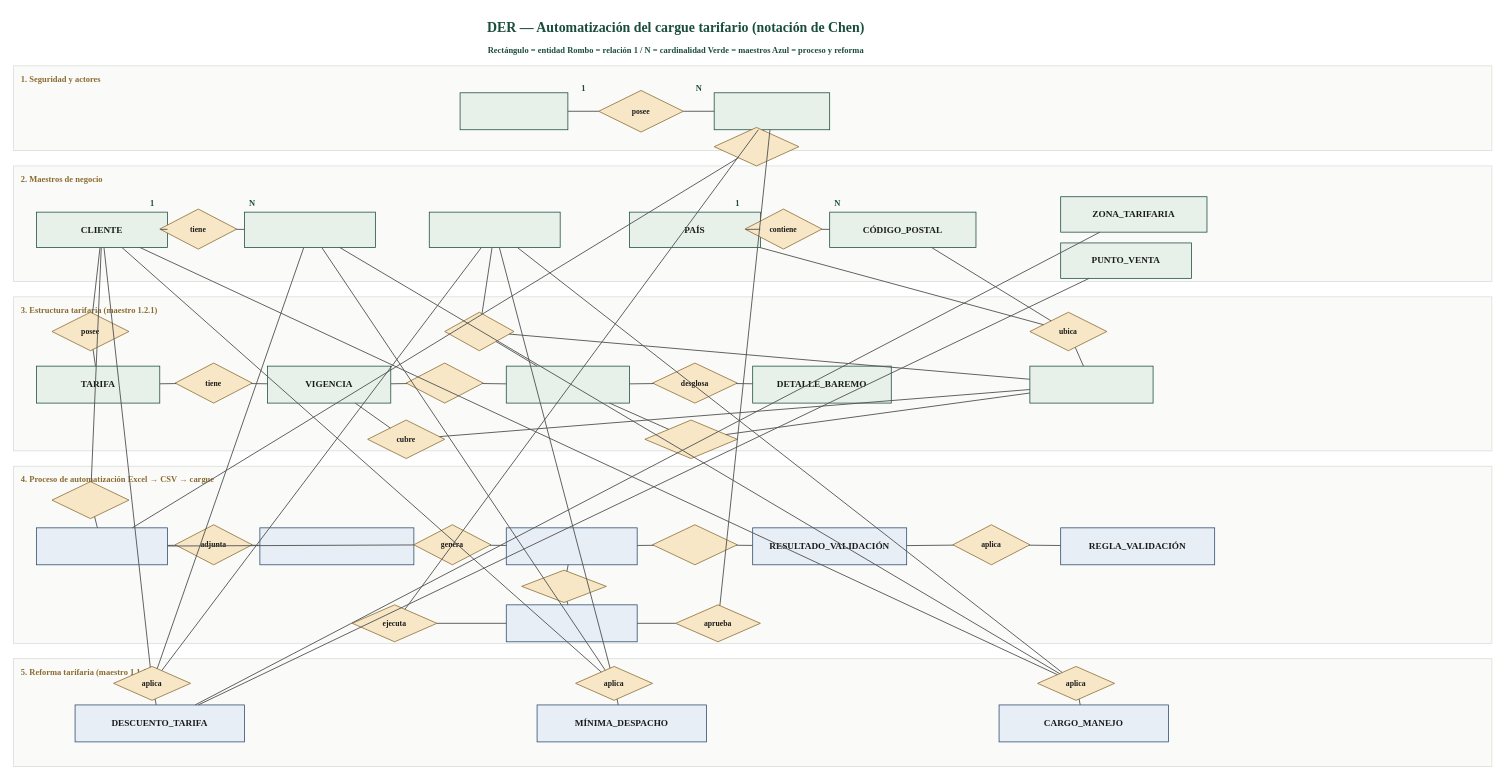
This 1505x780 diagram has some shape labels left out. Here are the shapes that lost their labels. From the top down, the centre of each, then its label:
At point (513, 111): "ROL".
At point (771, 111): "USUARIO".
At point (756, 146): "registra".
At point (309, 229): "CENTRO".
At point (494, 229): "PRODUCTO".
At point (479, 331): "usa".
At point (444, 382): "define".
At point (567, 384): "BAREMO".
At point (1091, 384): "RUTA".
At point (690, 439): "aplica en".
At point (90, 500): "origina".
At point (101, 546): "SOLICITUD".
At point (336, 546): "ARCHIVO_INSUMO".
At point (571, 546): "FICHERO_CSV".
At point (694, 544): "se valida".
At point (563, 586): "se carga".
At point (571, 623): "CARGUE".
